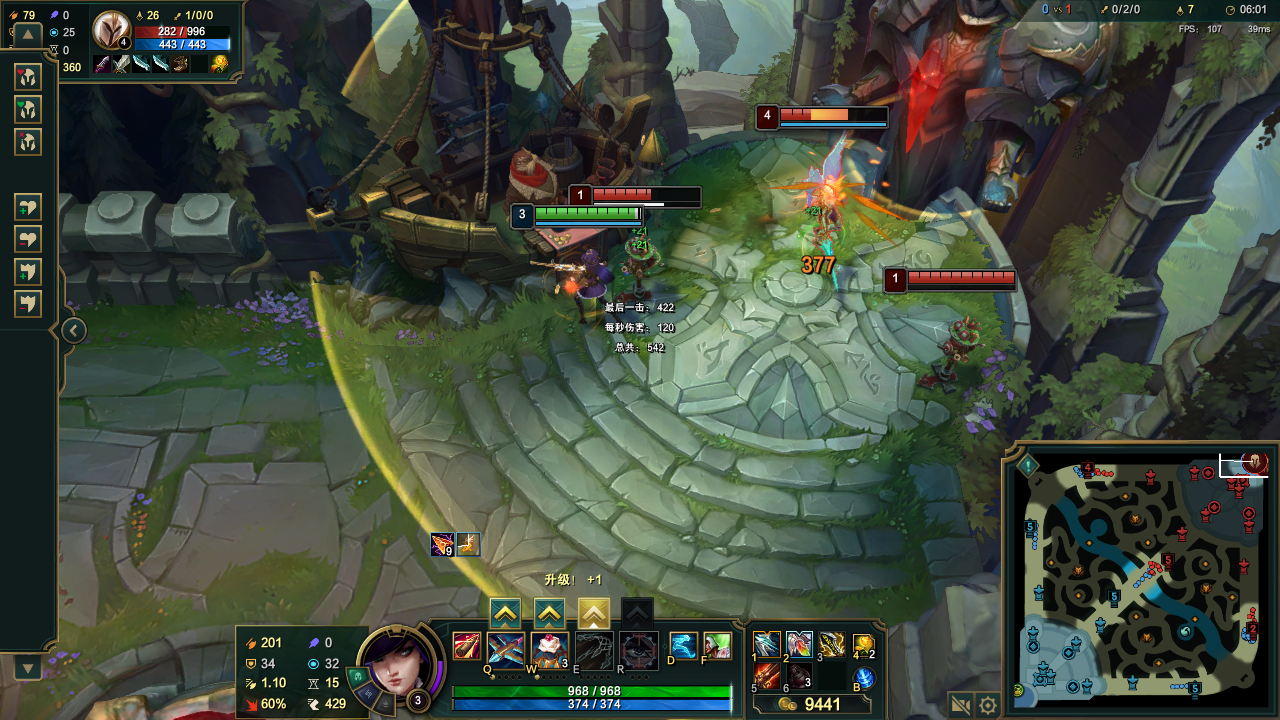DFYX: (908, 268, 1020, 284), (596, 185, 701, 199), (779, 110, 889, 123)
